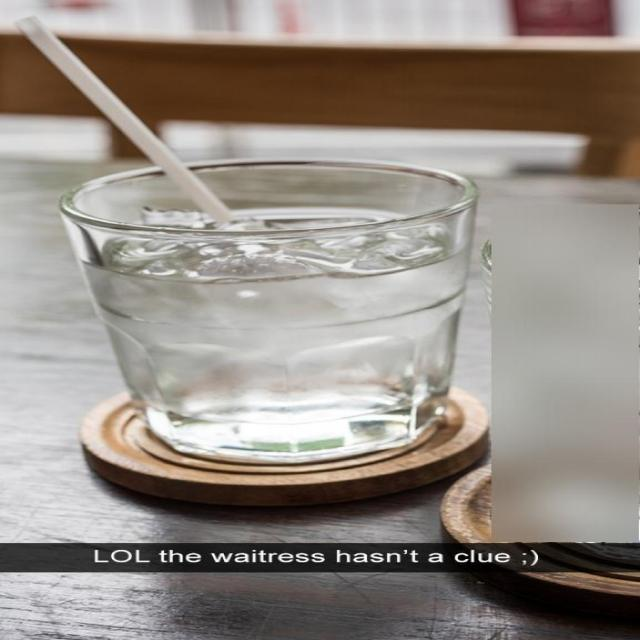glass-normal: (54, 155, 480, 460)
